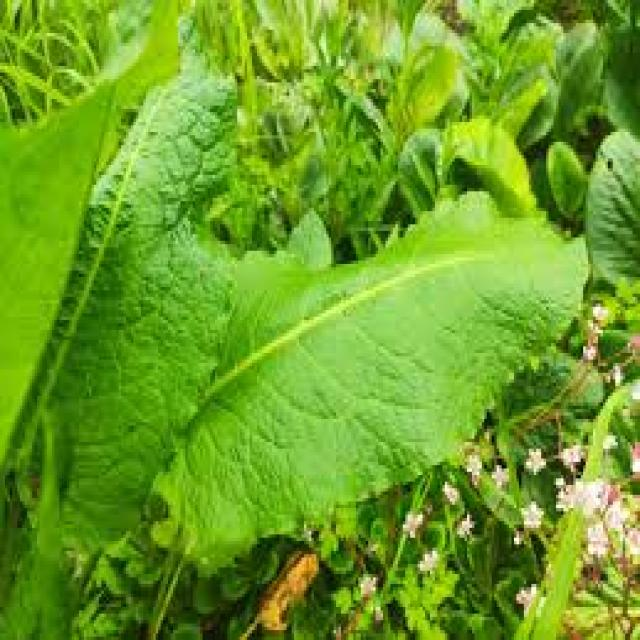organic waste: (8, 59, 620, 610)
